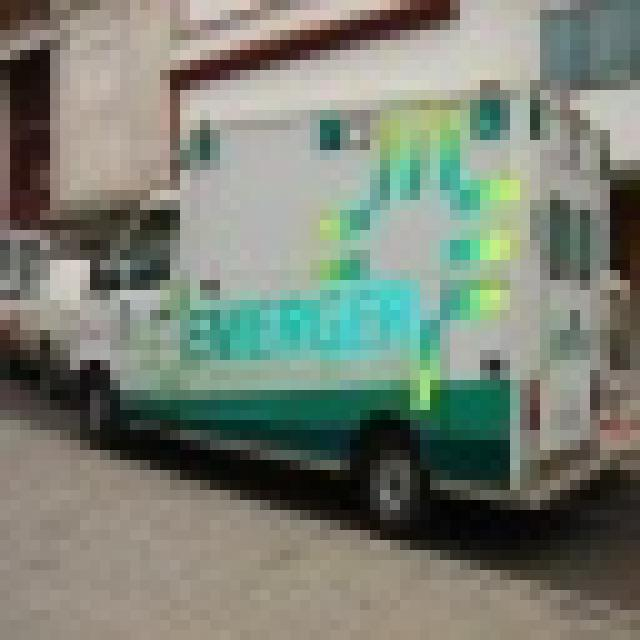Ambulance: (40, 70, 630, 530)
